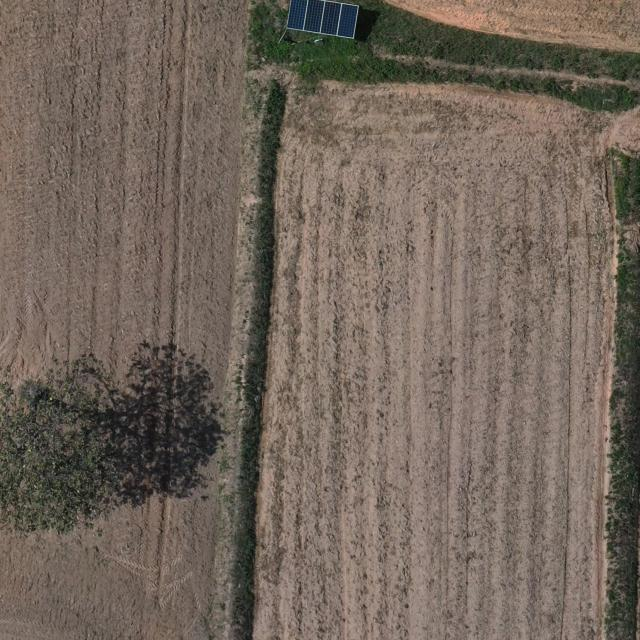Tree: (0, 352, 129, 540)
